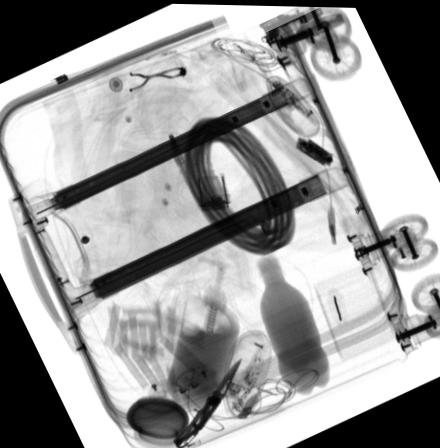Knife: (172, 356, 239, 447)
